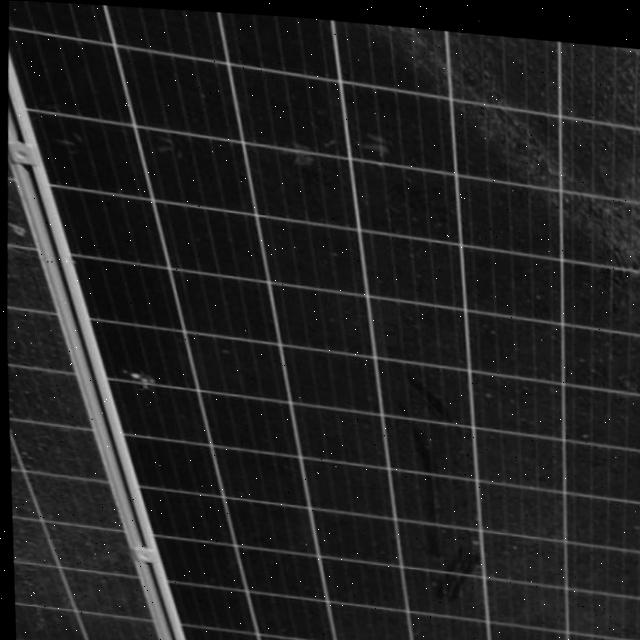Surface Contaminant: (344, 14, 640, 640), (4, 150, 152, 640), (103, 358, 175, 400)
